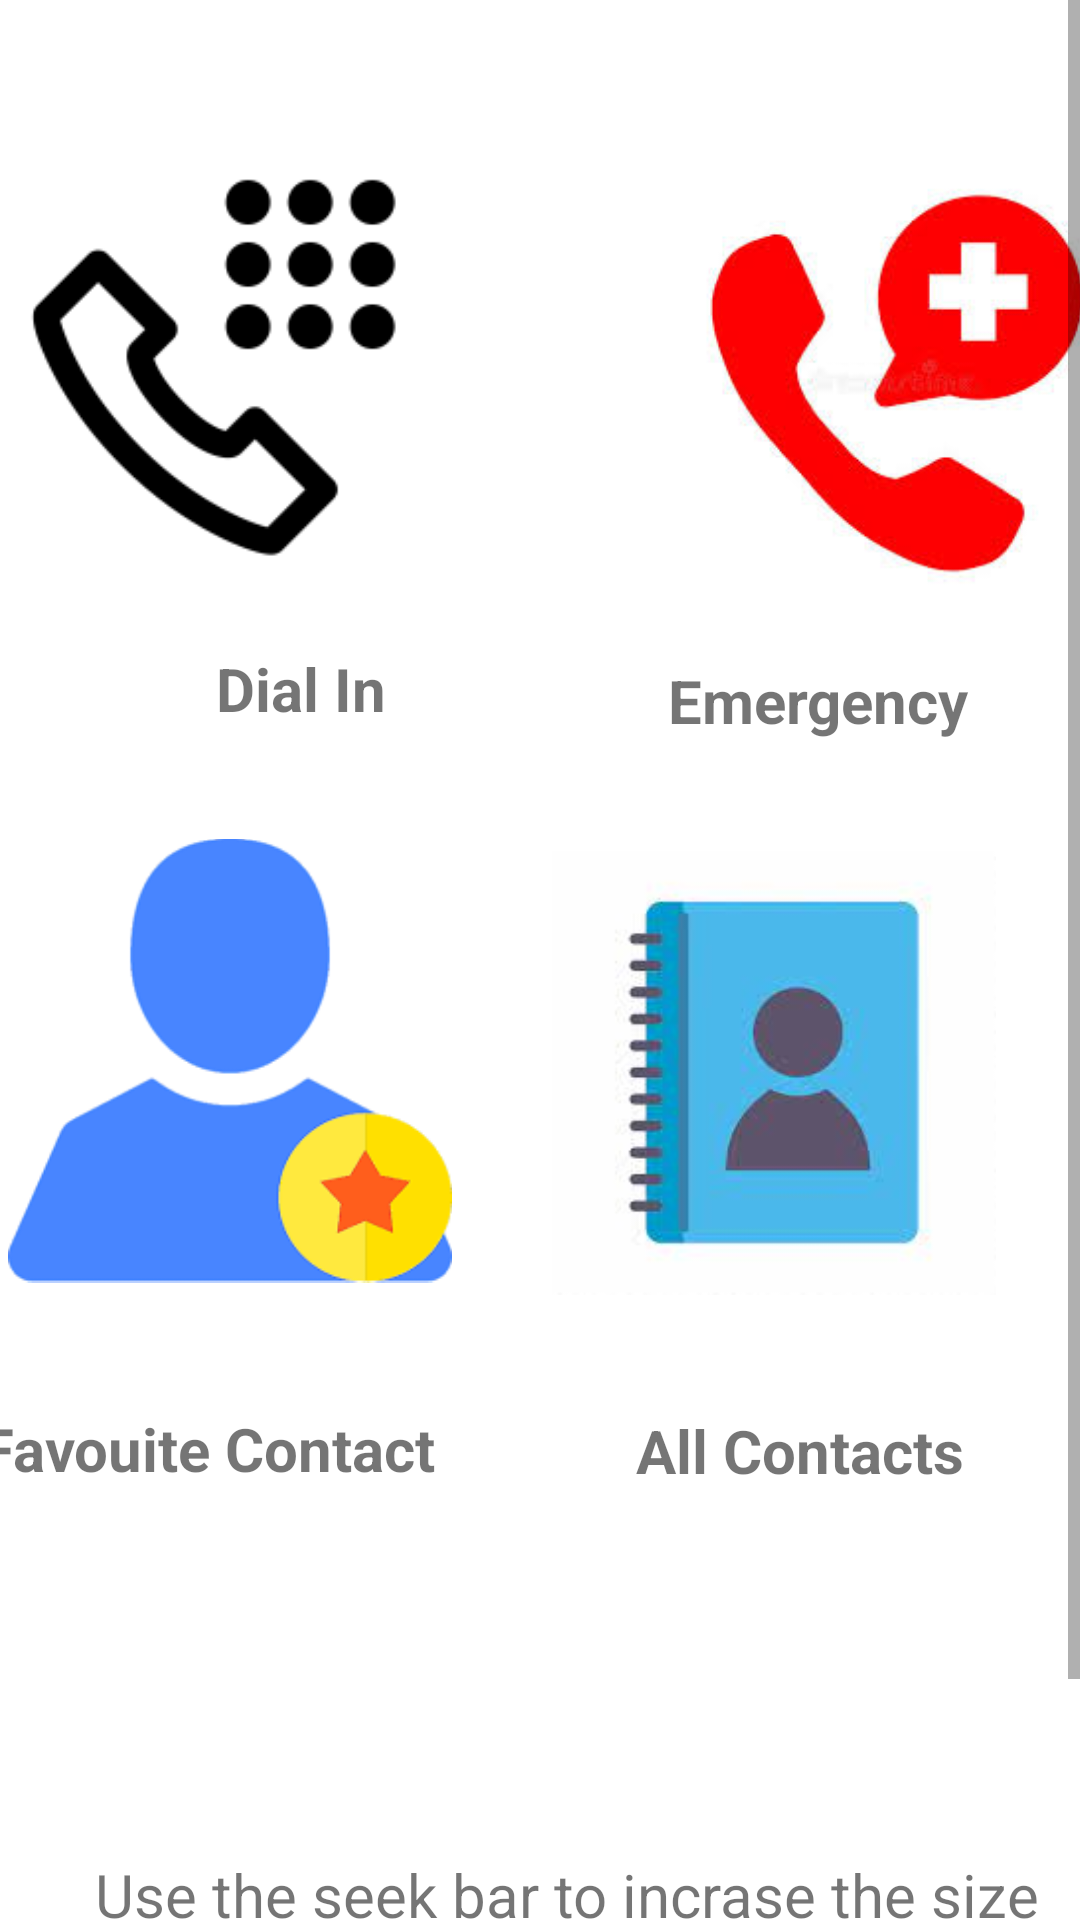

Where to tap for icons on this 1080px×1920px app screen, as (x,y):
contact list: (778,1072)
